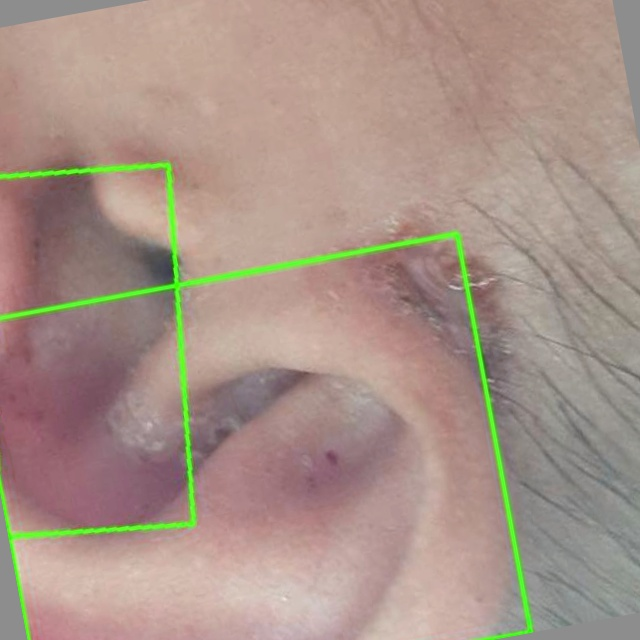Eczema: (0, 232, 532, 639), (0, 163, 194, 536)
